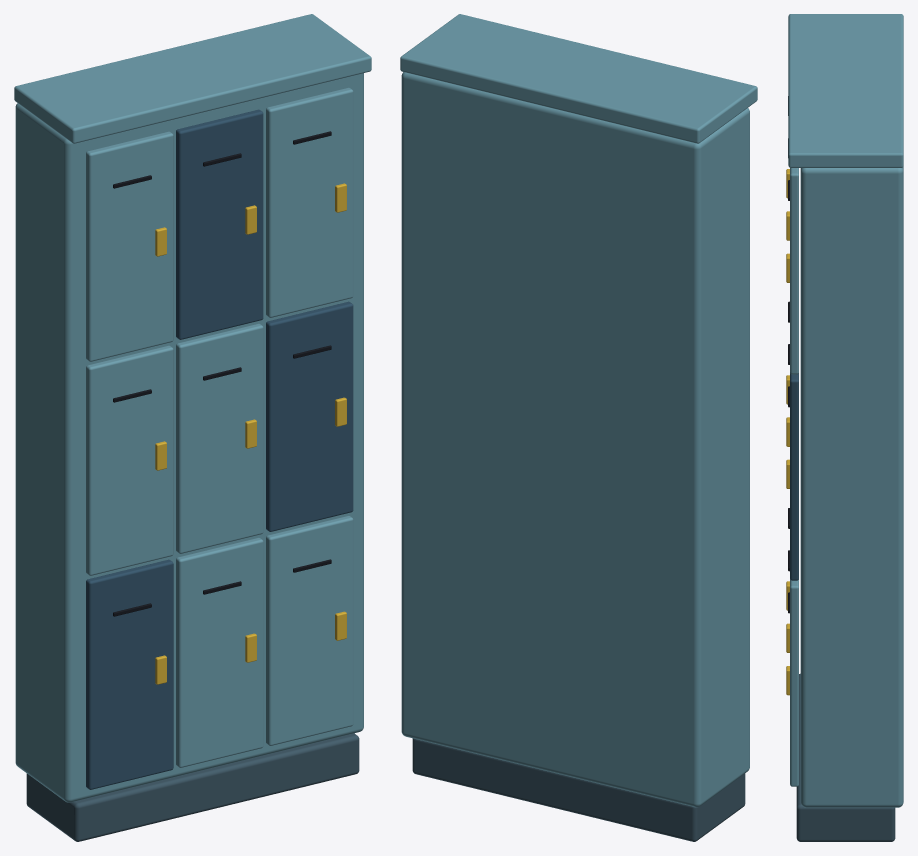
File: campus-lockers-compact-middle.glb
3 views of the same model, side by side, from view 1: azimuth 30°, elevation 25°; view 2: azimuth 150°, elevation 25°; view 3: azimuth 270°, elevation 25° (orthographic). The views are drawn at different scales.
Size of the model in its own units: 0.81 by 1.86 by 0.285.
